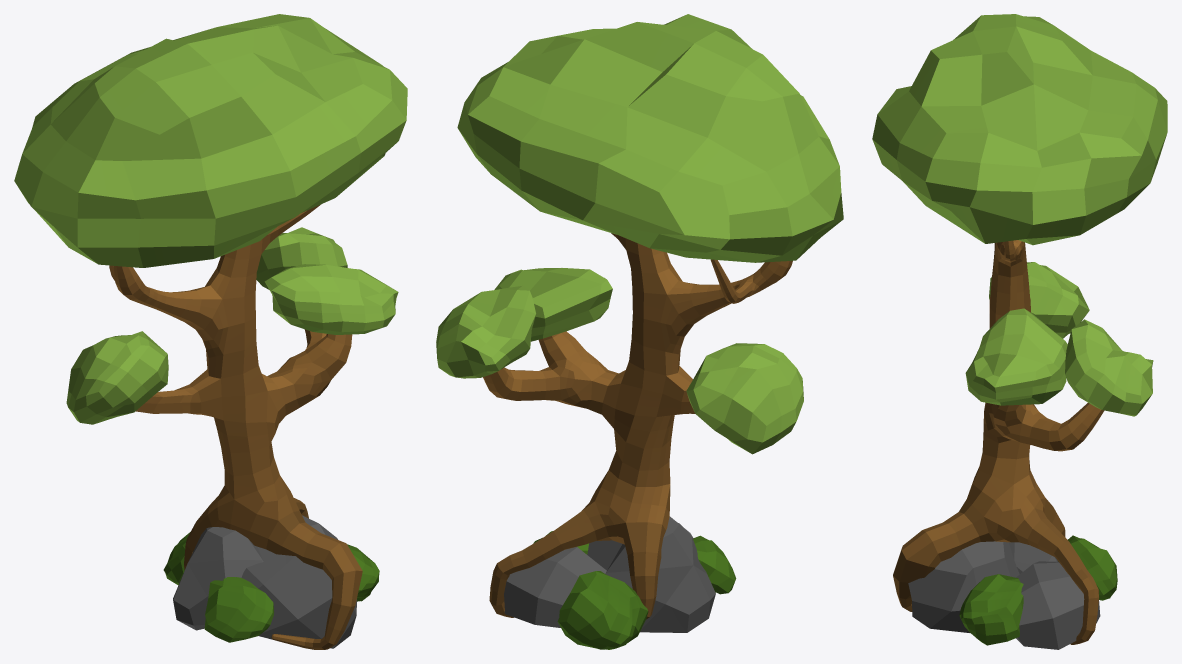
File: Tree.fbx
3 renders of one model, left to right at view 1: azimuth 30°, elevation 25°; view 2: azimuth 150°, elevation 25°; view 3: azimuth 270°, elevation 25°, orthographic. The views are drawn at different scales.
Parts seen in each view (by area): view 1: Plane; view 2: Plane; view 3: Plane.
Boxes of the visible parts, x1,y1,x2,y2 form: Plane: (14, 14, 407, 649); Plane: (436, 14, 843, 649); Plane: (872, 14, 1167, 649).
Size of the model in its own units: 139 by 218 by 104.
